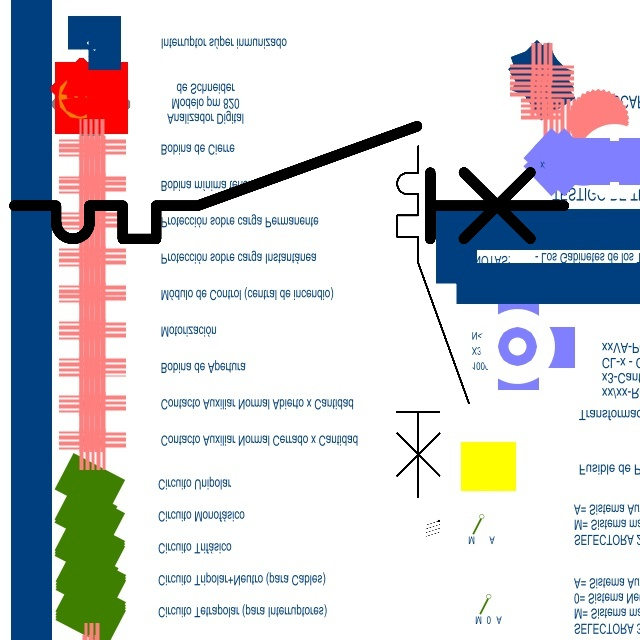interruptor_termomagnetico: (0, 112, 578, 253), (388, 137, 478, 506)
